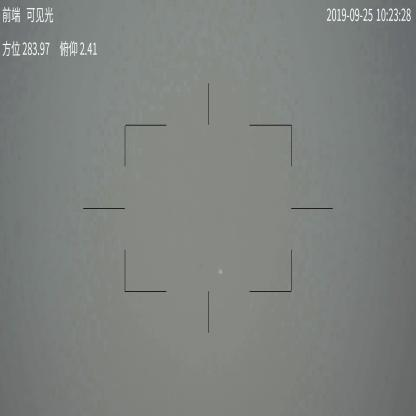uav: (218, 268, 224, 274)
